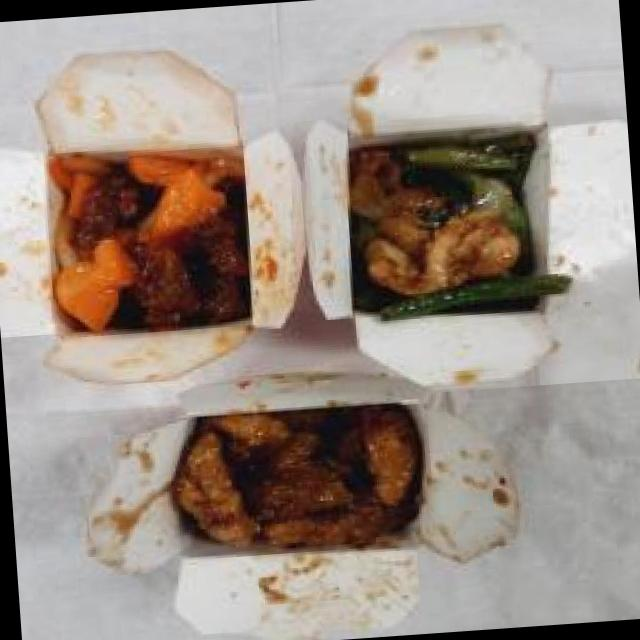Beijing Beef: (41, 143, 256, 340)
String Bean Chicken Breast: (342, 121, 560, 318)
The Original Orange Chicken: (174, 399, 424, 560)
